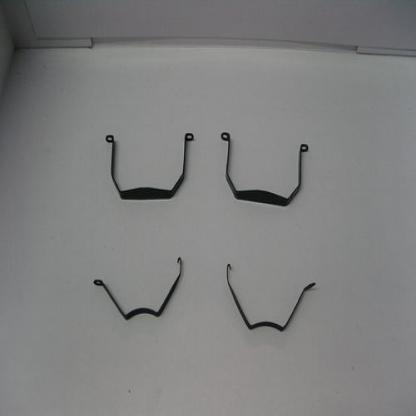FOD: (92, 253, 184, 322)
